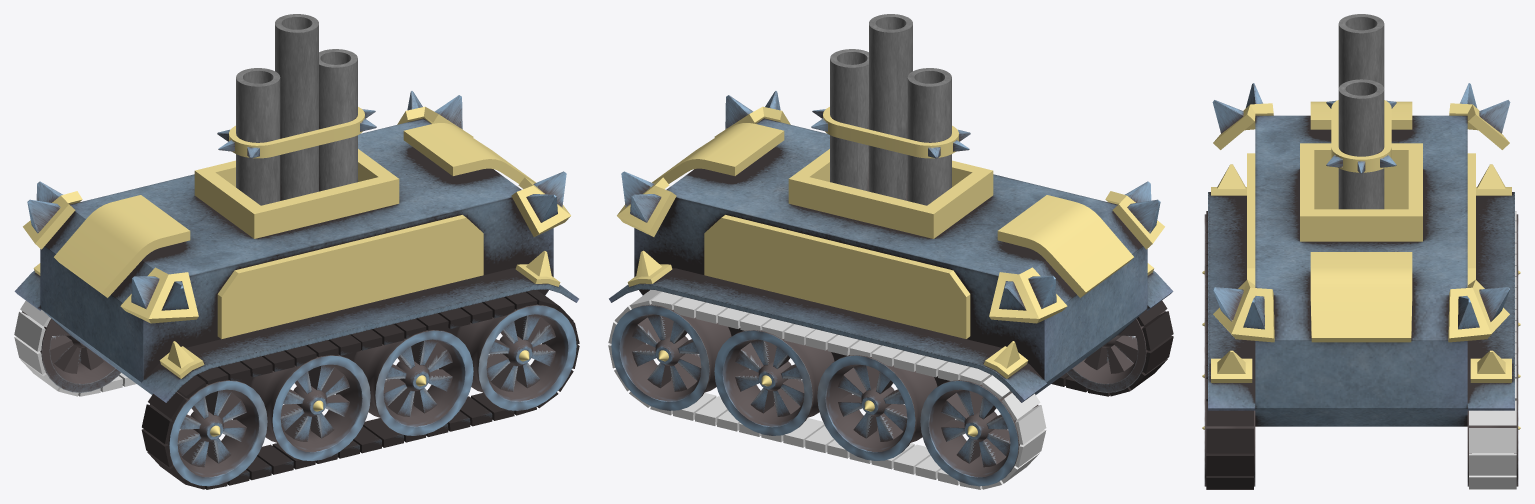
The model's file is Gun09.fbx.
3 views of the same model, side by side, from view 1: azimuth 30°, elevation 25°; view 2: azimuth 150°, elevation 25°; view 3: azimuth 270°, elevation 25° (orthographic). The views are drawn at different scales.
Visible parts, largest first — view 1: Plane.005, Cylinder.003, Plane.020, Plane.021, Cube.005, Plane.019, Cylinder.013, Cylinder.014, Cylinder.015, Cylinder.081, Cube.006; view 2: Plane.005, Cylinder.003, Plane.020, Plane.021, Cube.006, Plane.019, Cylinder.013, Cylinder.014, Cylinder.015, Cylinder.081, Cube.005; view 3: Plane.005, Plane.020, Plane.019, Cylinder.015, Cube.005, Cube.006, Cylinder.013, Plane.021, Cylinder.003, Cylinder.081.
Part boxes in pixels (x1,y1,x2,y2): Plane.005: (40, 118, 553, 394); Cylinder.003: (22, 304, 576, 486); Plane.020: (23, 91, 570, 323); Plane.021: (217, 215, 483, 339); Cube.005: (141, 290, 579, 489); Plane.019: (14, 251, 578, 402); Cylinder.013: (275, 14, 318, 200); Cylinder.014: (236, 68, 280, 205); Cylinder.015: (319, 49, 357, 191); Cylinder.081: (217, 107, 376, 158); Cube.006: (14, 300, 136, 396); Plane.005: (634, 118, 1147, 394); Cylinder.003: (611, 304, 1165, 486); Plane.020: (617, 91, 1164, 323); Plane.021: (704, 215, 970, 338); Cube.006: (608, 290, 1046, 489); Plane.019: (609, 250, 1173, 402); Cylinder.013: (869, 14, 912, 200); Cylinder.014: (907, 68, 951, 205); Cylinder.015: (830, 49, 868, 191); Cylinder.081: (811, 107, 970, 158); Cube.005: (1051, 300, 1173, 396); Plane.005: (1255, 115, 1467, 426); Plane.020: (1212, 83, 1510, 342); Plane.019: (1208, 164, 1514, 410); Cylinder.015: (1338, 79, 1384, 209); Cube.005: (1206, 211, 1253, 489); Cube.006: (1469, 211, 1516, 489); Cylinder.013: (1338, 14, 1384, 87); Plane.021: (1247, 153, 1475, 287); Cylinder.003: (1202, 214, 1520, 486); Cylinder.081: (1326, 100, 1396, 173).
Size of the model in its own units: 491 by 399 by 300.
2 materials, 2 textured.
